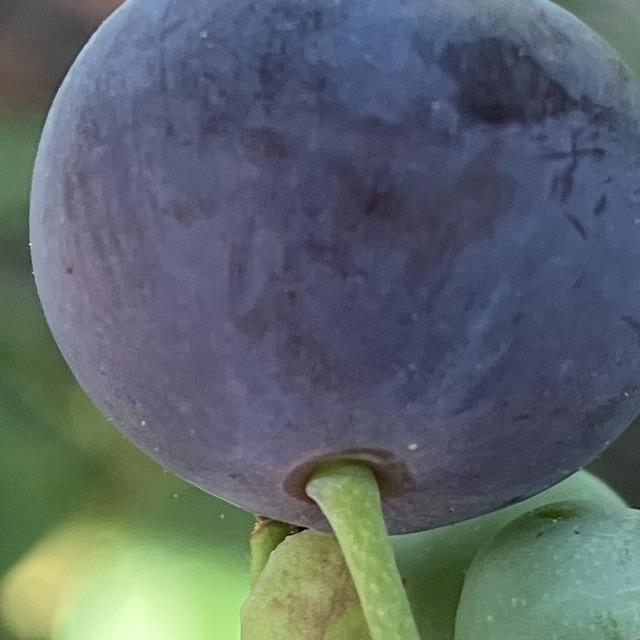Blueberries: (23, 0, 640, 539)
